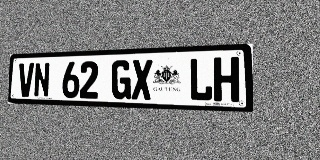2: (80, 61, 98, 99)
6: (62, 61, 80, 98)
G: (111, 60, 131, 99)
H: (214, 57, 239, 102)
L: (189, 58, 213, 101)
N: (33, 62, 50, 98)
V: (18, 63, 34, 97)
X: (131, 59, 152, 100)
